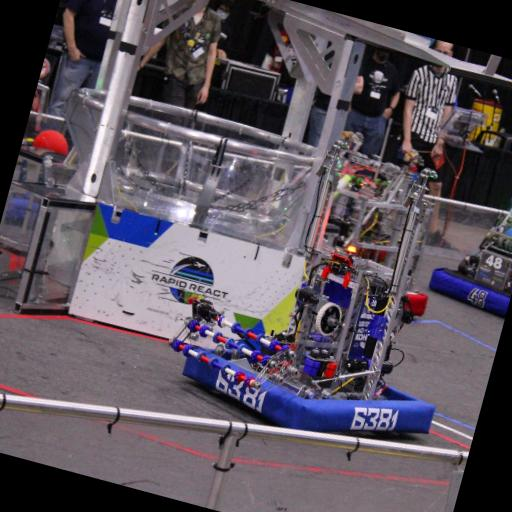robot: (162, 108, 497, 458)
